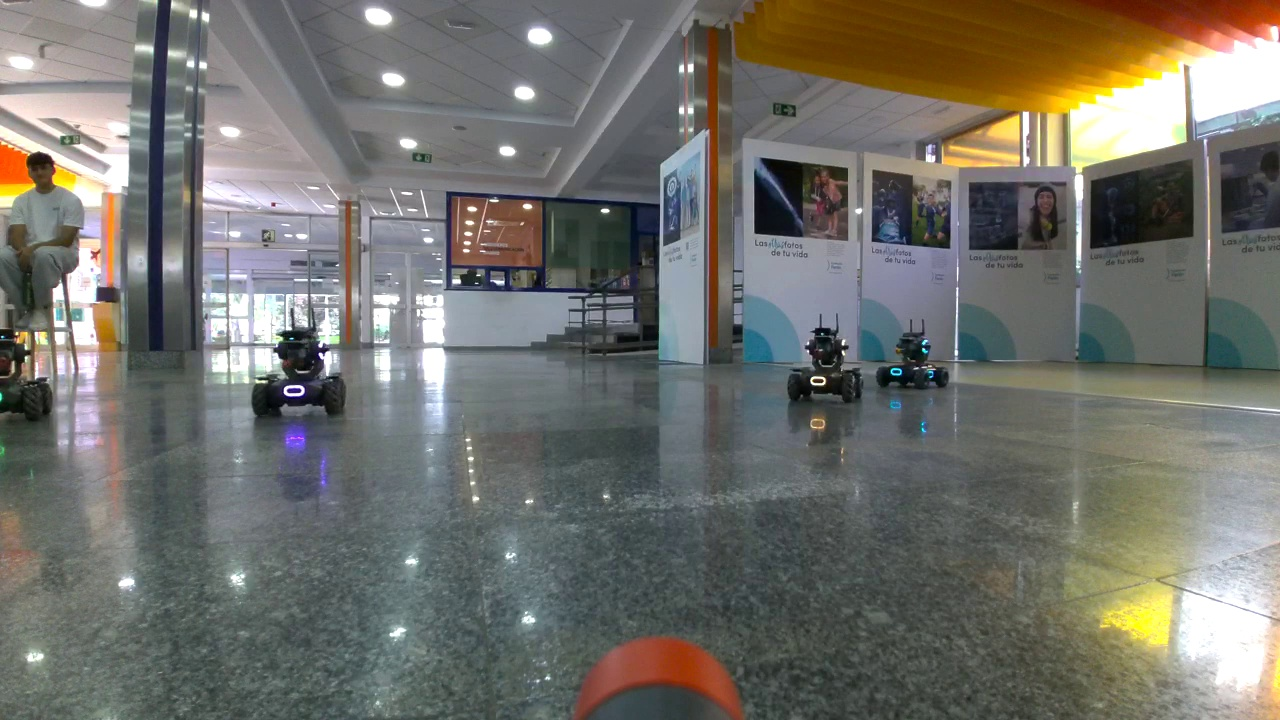robot: (251, 306, 347, 415), (787, 312, 863, 404), (876, 317, 952, 390), (1, 323, 53, 423)
